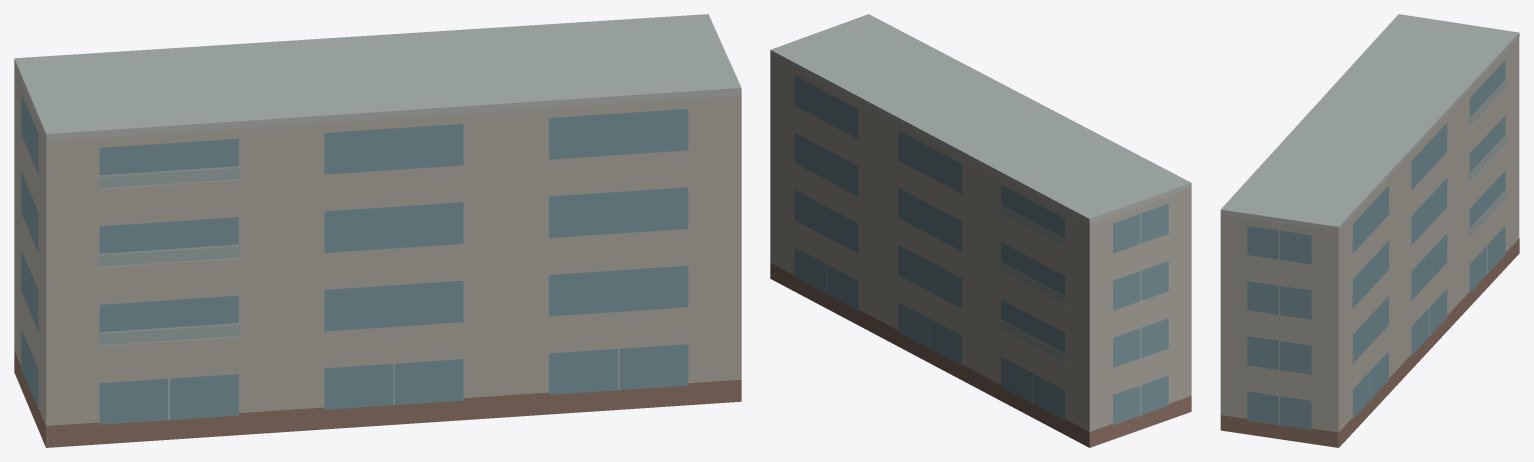
File: survey-upis-32873578.glb
3 renders of one model, left to right at view 1: azimuth 30°, elevation 25°; view 2: azimuth 150°, elevation 25°; view 3: azimuth 270°, elevation 25°, orthographic. The views are drawn at different scales.
Parts seen in each view (by area): view 1: survey-upis-32873578.tmp; view 2: survey-upis-32873578.tmp; view 3: survey-upis-32873578.tmp.
Boxes of the visible parts, x1,y1,x2,y2 form: survey-upis-32873578.tmp: [14, 14, 741, 447]; survey-upis-32873578.tmp: [770, 14, 1191, 447]; survey-upis-32873578.tmp: [1220, 14, 1519, 447].
Size of the model in its own units: 23.17 by 11.2 by 13.74.
